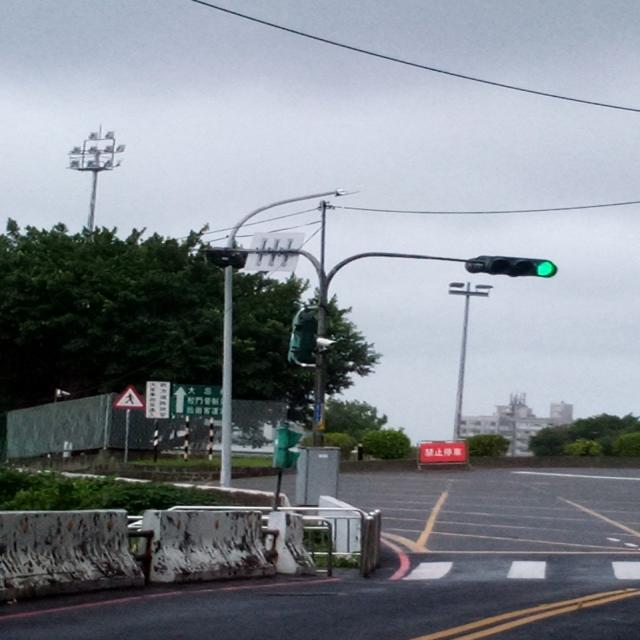green light: (470, 255, 562, 279)
